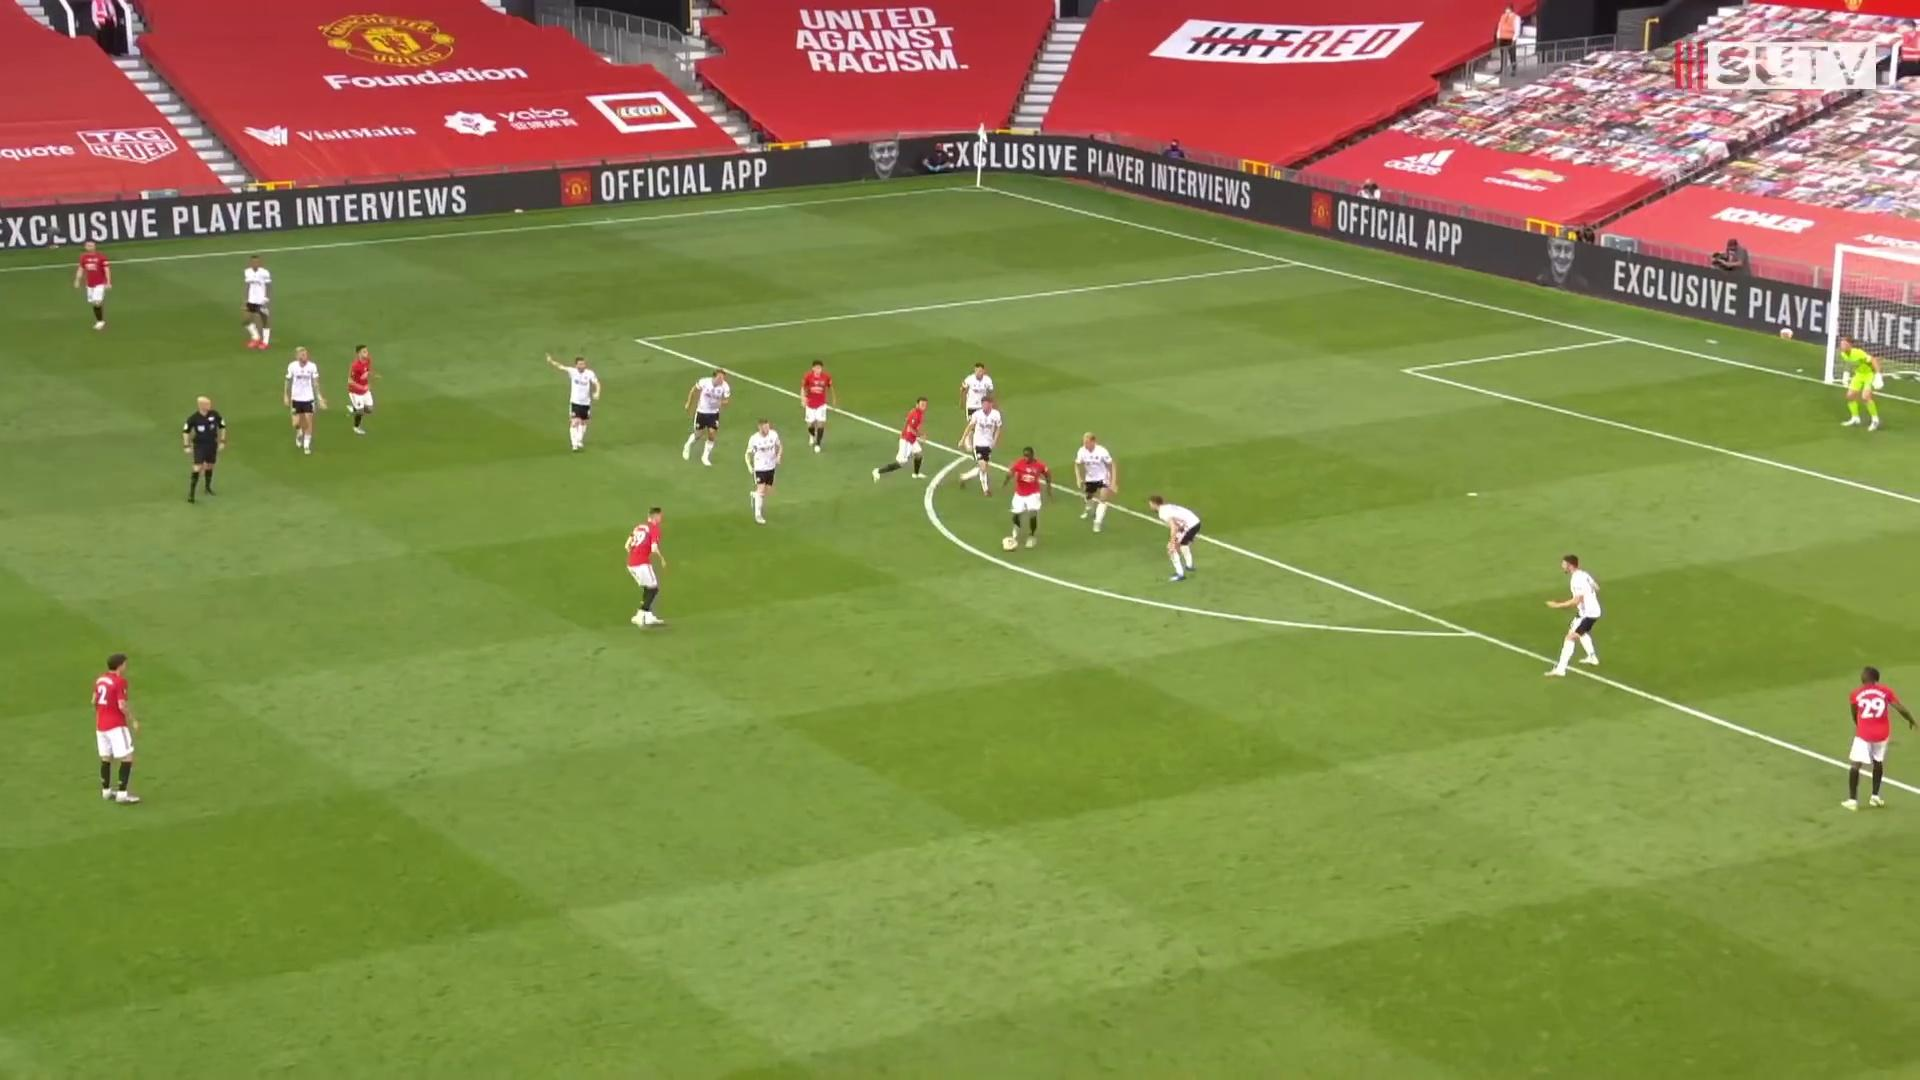ball: (999, 532, 1020, 554)
goalkeeper: (1837, 334, 1890, 435)
player: (1839, 662, 1912, 815), (86, 650, 150, 814), (1542, 552, 1607, 683), (1004, 441, 1063, 554), (624, 505, 674, 637), (548, 351, 608, 455), (869, 394, 934, 487), (679, 364, 735, 469), (1074, 427, 1127, 535), (276, 344, 327, 456), (1150, 489, 1206, 583), (741, 415, 788, 526), (963, 391, 1010, 501), (68, 238, 118, 337), (961, 358, 1008, 463), (796, 356, 842, 458), (236, 253, 279, 355), (346, 343, 384, 439)
referee: (180, 390, 231, 507)
